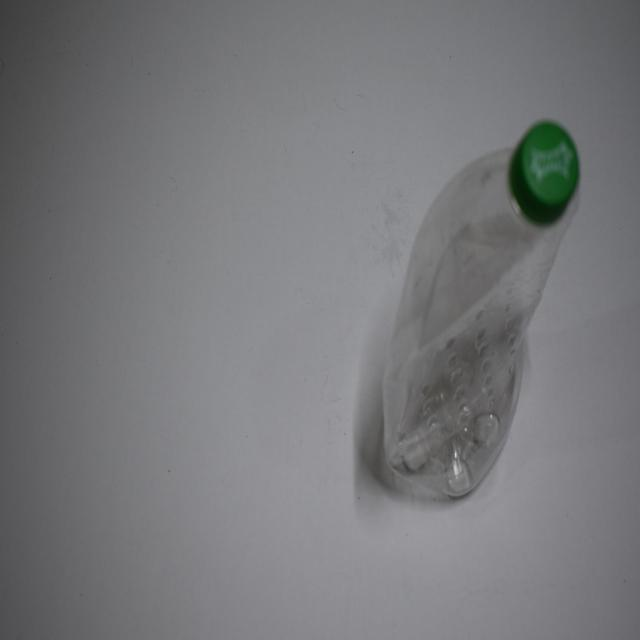empty: (383, 121, 580, 496)
